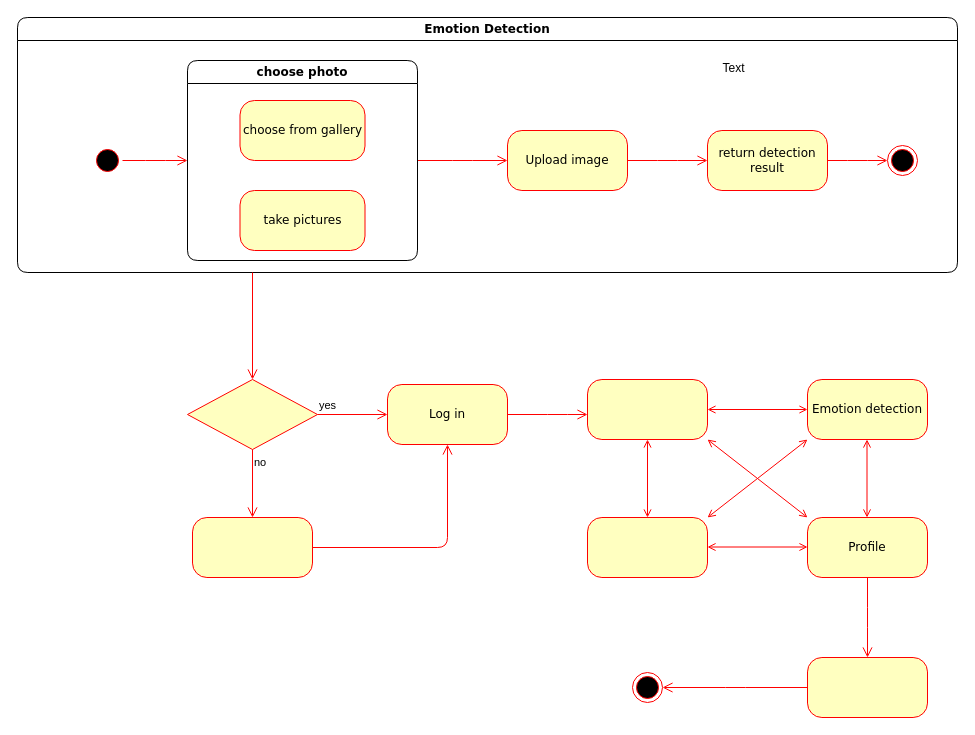
This 975x735 diagram has some shape labels left out. The shapes that lost their labels are listed below. From the top down, each one's centre as x and y in pixels, then its label:
pixel 252 414: Have an account
pixel 647 409: Home
pixel 252 547: Sign up
pixel 647 547: History
pixel 867 687: Log out
